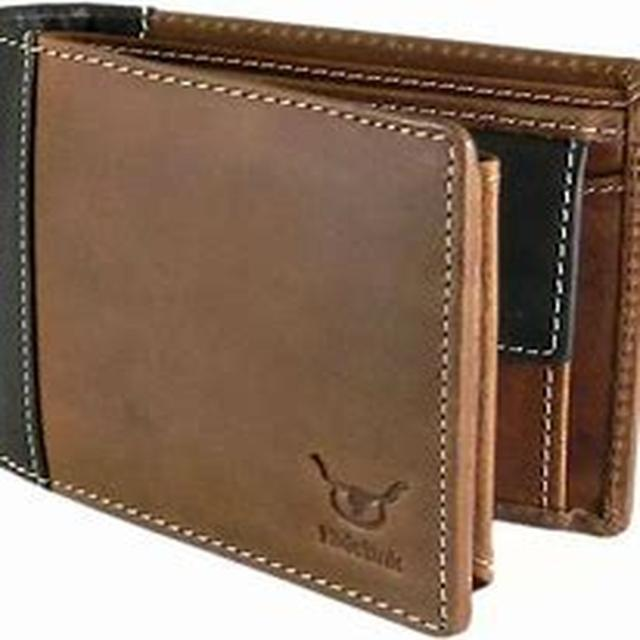wallet: (0, 44, 627, 596)
